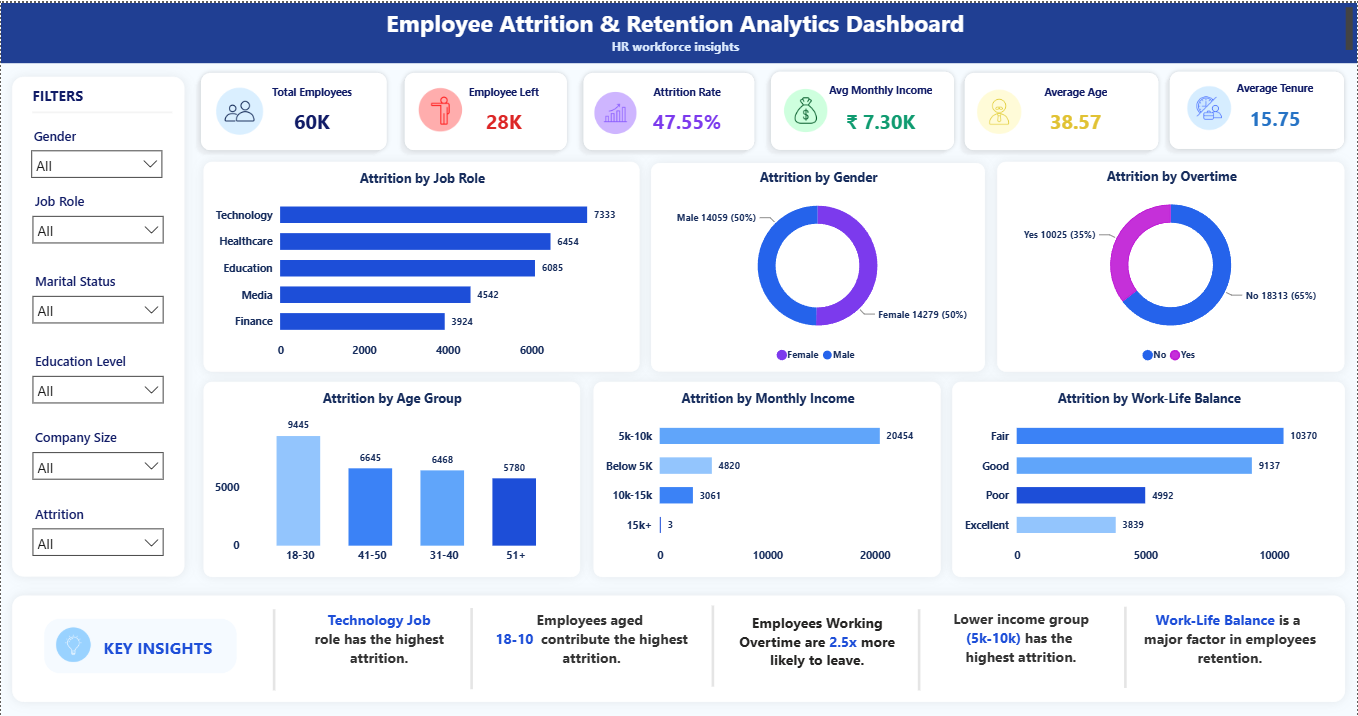

The page's visual inventory and layout, read from the dashboard file:
{"tool":"powerbi","page":{"name":"Page 1","canvas":[1550,816],"ordinal":0},"visuals":[{"type":"textbox","box":[0,0,1550,68.8],"z":0},{"type":"cardVisual","fields":{"Data":["train.Total Employees"]},"box":[214.3,65.7,241.4,117.1],"z":1000},{"type":"cardVisual","fields":{"Data":["train.Employee Left"]},"box":[447.1,65.7,214.3,117.1],"z":2000},{"type":"cardVisual","fields":{"Data":["train.Attrition Rate %"]},"box":[651.4,65.7,224.3,117.1],"z":3000},{"type":"cardVisual","fields":{"Data":["train.Average Monthly Income"]},"box":[865.7,64.3,238.6,118.6],"z":4000},{"type":"cardVisual","fields":{"Data":["train.Average Age"]},"box":[1087.1,65.7,250,117.1],"z":5000},{"type":"cardVisual","fields":{"Data":["train.Average Tenure"]},"box":[1321.4,64.3,228.6,117.1],"z":6000},{"type":"barChart","title":"Attrition by Job Role","fields":{"Category":["train.Job Role"],"Y":["train.Employee Left"]},"box":[231.4,181.4,498.6,240],"z":7000},{"type":"donutChart","title":"Attrition by Gender","fields":{"Y":["train.Employee Left"],"Category":["train.Gender"]},"box":[742.9,182.9,381.4,238.6],"z":8000},{"type":"donutChart","title":"Attrition by Overtime","fields":{"Y":["train.Employee Left"],"Category":["train.Overtime"]},"box":[1138.6,181.4,397.1,240],"z":9000},{"type":"clusteredColumnChart","title":"Attrition by Age Group","fields":{"Y":["train.Employee Left"],"Category":["train.Age Group"]},"box":[231.4,432.9,430,222.9],"z":10000},{"type":"barChart","title":"Attrition by Monthly Income","fields":{"Category":["train.Income Group"],"Y":["train.Employee Left"]},"box":[677.1,432.9,397.1,222.9],"z":11000},{"type":"barChart","title":"Attrition by Work-Life Balance","fields":{"Category":["train.Work-Life Balance"],"Y":["train.Employee Left"]},"box":[1087.1,432.9,448.6,222.9],"z":12000},{"type":"textbox","box":[12.9,677.1,1522.9,121.4],"z":13000},{"type":"group","id":"g1","title":"Group 1","box":[12.9,84.3,197.1,571.4],"z":14000},{"type":"textbox","box":[48,702.8,221.4,64.3],"z":14000,"group":"g2"},{"type":"image","box":[234.3,95.7,77.1,55.7],"z":15000},{"type":"textbox","box":[333.7,688.5,191.4,95.7],"z":15000,"group":"g2"},{"type":"group","id":"g2","title":"Group 2","box":[48,687.1,1471.4,98.6],"z":16000},{"type":"textbox","box":[552.3,688.5,244.3,92.9],"z":16000,"group":"g2"},{"type":"textbox","box":[825.1,691.4,214.3,90],"z":17000,"group":"g2"},{"type":"shape","box":[274.3,692.9,75.7,92.9],"z":17000},{"type":"textbox","box":[1046.6,687.1,237.1,98.6],"z":18000,"group":"g2"},{"type":"shape","box":[500,691.4,75.7,92.9],"z":18000},{"type":"textbox","box":[1283.7,688.5,235.7,95.7],"z":19000,"group":"g2"},{"type":"shape","box":[775.7,688.6,75.7,92.9],"z":19000},{"type":"textbox","box":[12.9,84.3,197.1,571.4],"z":20000,"group":"g1"},{"type":"shape","box":[1011.4,692.9,75.7,92.9],"z":20000},{"type":"slicer","fields":{"Values":["train.Gender"]},"box":[24.5,135.3,170,77.1],"z":21000,"group":"g1"},{"type":"shape","box":[1247.1,690,75.7,92.9],"z":21000},{"type":"shape","box":[35.7,78.6,160,92.9],"z":22000},{"type":"slicer","fields":{"Values":["train.Job Role"]},"box":[25.8,211.4,170,77.1],"z":22000,"group":"g1"},{"type":"image","box":[465.7,92.9,72.9,58.6],"z":23000},{"type":"slicer","fields":{"Values":["train.Marital Status"]},"box":[25.8,302.9,170,77.1],"z":23000,"group":"g1"},{"type":"image","box":[661.4,100,81.4,51.4],"z":24000},{"type":"slicer","fields":{"Values":["train.Education Level"]},"box":[25.8,394.3,170,77.1],"z":24000,"group":"g1"},{"type":"image","box":[875.7,95.7,88.6,54.3],"z":25000},{"type":"slicer","fields":{"Values":["train.Company Size"]},"box":[25.8,481.4,170,77.1],"z":25000,"group":"g1"},{"type":"image","box":[1087.1,97.1,107.1,54.3],"z":25001},{"type":"image","box":[1347.1,92.9,67.1,54.3],"z":25002},{"type":"image","box":[54.3,711.4,57.1,44.3],"z":25003},{"type":"slicer","fields":{"Values":["train.Attrition"]},"box":[25.8,568.6,170,77.1],"z":26000,"group":"g1"}]}

Visuals, with their boxes in screenshot pixels (x1, y1, x2, y2), scaled from the page's 1550x816 canvas onto the 1358x716 screenshot:
textbox: locate(0, 0, 1357, 60)
cardVisual - train.Total Employees: locate(188, 58, 399, 160)
cardVisual - train.Employee Left: locate(392, 58, 579, 160)
cardVisual - train.Attrition Rate %: locate(571, 58, 767, 160)
cardVisual - train.Average Monthly Income: locate(758, 56, 968, 160)
cardVisual - train.Average Age: locate(952, 58, 1171, 160)
cardVisual - train.Average Tenure: locate(1158, 56, 1357, 159)
"Attrition by Job Role" barChart: locate(203, 159, 640, 370)
"Attrition by Gender" donutChart: locate(651, 160, 985, 370)
"Attrition by Overtime" donutChart: locate(998, 159, 1345, 370)
"Attrition by Age Group" clusteredColumnChart: locate(203, 380, 579, 575)
"Attrition by Monthly Income" barChart: locate(593, 380, 941, 575)
"Attrition by Work-Life Balance" barChart: locate(952, 380, 1345, 575)
textbox: locate(11, 594, 1346, 701)
"Group 1" group: locate(11, 74, 184, 575)
textbox: locate(42, 617, 236, 673)
image: locate(205, 84, 273, 133)
textbox: locate(292, 604, 460, 688)
"Group 2" group: locate(42, 603, 1331, 689)
textbox: locate(484, 604, 698, 686)
textbox: locate(723, 607, 911, 686)
shape: locate(240, 608, 307, 690)
textbox: locate(917, 603, 1125, 689)
shape: locate(438, 607, 504, 688)
textbox: locate(1125, 604, 1331, 688)
shape: locate(680, 604, 746, 686)
textbox: locate(11, 74, 184, 575)
shape: locate(886, 608, 952, 690)
slicer - train.Gender: locate(21, 119, 170, 186)
shape: locate(1093, 605, 1159, 687)
shape: locate(31, 69, 171, 150)
slicer - train.Job Role: locate(23, 185, 172, 253)
image: locate(408, 82, 472, 133)
slicer - train.Marital Status: locate(23, 266, 172, 333)
image: locate(579, 88, 651, 133)
slicer - train.Education Level: locate(23, 346, 172, 414)
image: locate(767, 84, 845, 132)
slicer - train.Company Size: locate(23, 422, 172, 490)
image: locate(952, 85, 1046, 133)
image: locate(1180, 82, 1239, 129)
image: locate(48, 624, 98, 663)
slicer - train.Attrition: locate(23, 499, 172, 567)
